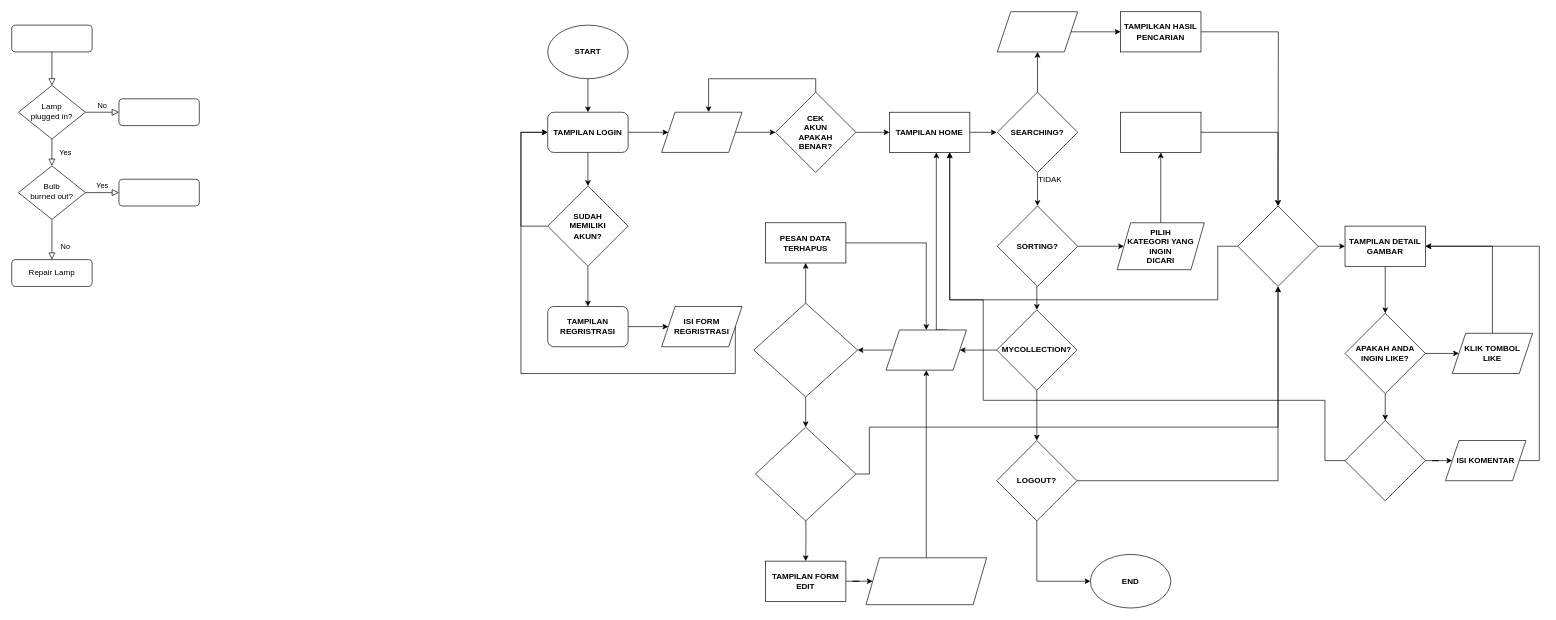
Image size: 1556x620. Some labels were removed from this diagram. The centre of each missing label's shape, as x and y in pixels:
APAKAH ANDA INGIN COMMENT?: (1384,460)
APAKAH ANDA INGIN MENGEDIT MYCOLLECTION?: (805,473)
APAKAH ANDA INGIN MENGHAPUS MYCOLLECTION?: (805,350)
ISI FORM LOGIN: (701,132)
Lamp doesn't work: (51,38)
LIHAT DETAIL GAMBAR?: (1277,245)
MASUKKAN DATA YANG INGIN DI EDIT: (926,581)
MASUKKAN KEYWORD YANG INGIN DICARI: (1037,31)
Plug in lamp: (158,112)
Replace Bulb: (158,192)
TAMPILKAN HASIL KATEGORI: (1160,132)
TAMPILKAN MYCOLLECTION: (925,349)
